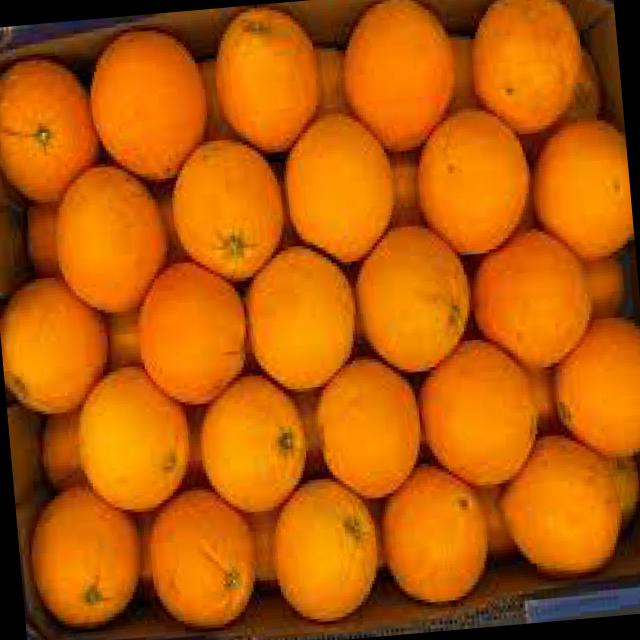orange: (42, 154, 176, 322), (86, 22, 212, 186), (494, 430, 628, 580), (416, 336, 544, 492), (352, 220, 476, 376), (413, 103, 536, 258), (335, 0, 459, 153), (72, 363, 194, 518), (280, 109, 400, 266), (468, 226, 594, 374), (166, 134, 288, 286), (242, 242, 361, 395), (265, 474, 384, 626), (132, 257, 251, 408), (210, 0, 324, 156), (27, 482, 144, 632), (378, 460, 496, 608), (142, 485, 260, 632), (195, 371, 312, 519), (312, 354, 424, 502), (466, 0, 585, 136), (0, 271, 111, 415), (0, 52, 101, 206), (529, 116, 635, 260), (550, 317, 640, 460), (38, 405, 90, 493), (24, 200, 68, 278)
